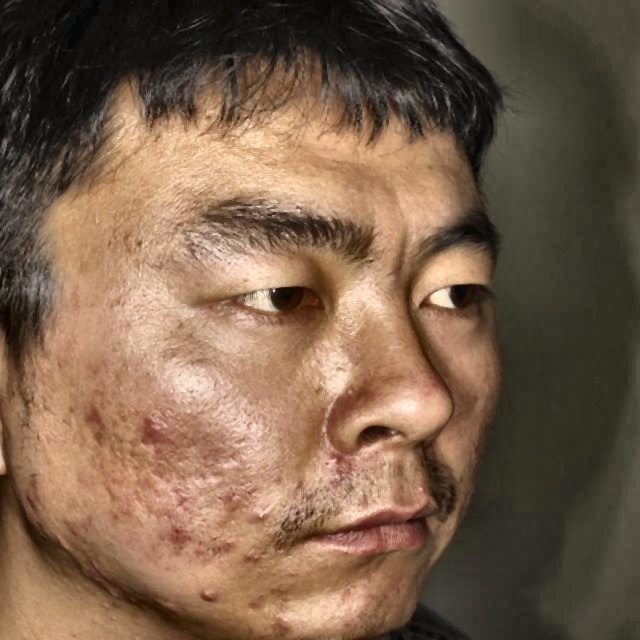pustule: (131, 414, 177, 448), (18, 483, 54, 518), (74, 397, 103, 428), (273, 608, 305, 636), (191, 578, 219, 608), (213, 532, 243, 558), (320, 451, 349, 475), (242, 542, 272, 563), (246, 508, 273, 528), (169, 519, 183, 550)
